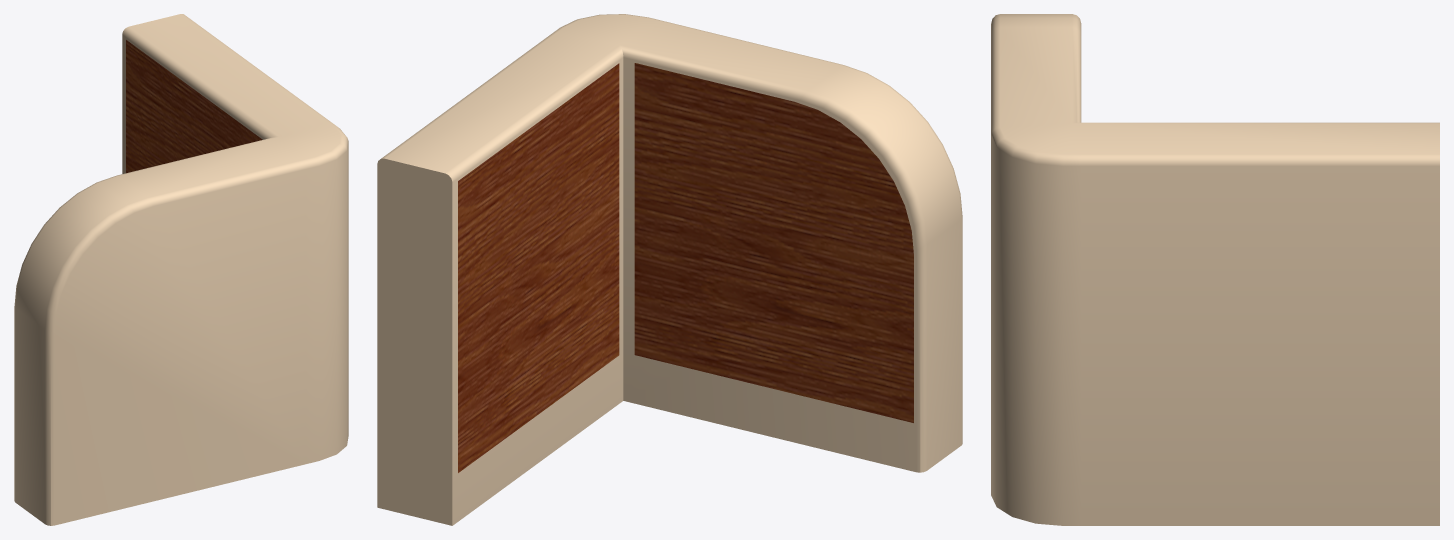
File: Wall_Corner_IR.glb
3 renders of one model, left to right at view 1: azimuth 30°, elevation 25°; view 2: azimuth 150°, elevation 25°; view 3: azimuth 270°, elevation 25°, orthographic. The views are drawn at different scales.
Parts seen in each view (by area): view 1: Cube.008, Plane.009; view 2: Cube.008, Plane.007, Plane.009; view 3: Cube.008.
Boxes of the visible parts, x1,y1,x2,y2 form: Cube.008: [14, 14, 348, 525]; Plane.009: [126, 40, 262, 173]; Cube.008: [377, 14, 962, 525]; Plane.007: [634, 63, 913, 422]; Plane.009: [458, 63, 619, 472]; Cube.008: [991, 14, 1439, 525].
Size of the model in its own units: 2.52 by 2.25 by 2.49.
Materials: 3 (3 with a texture image).
